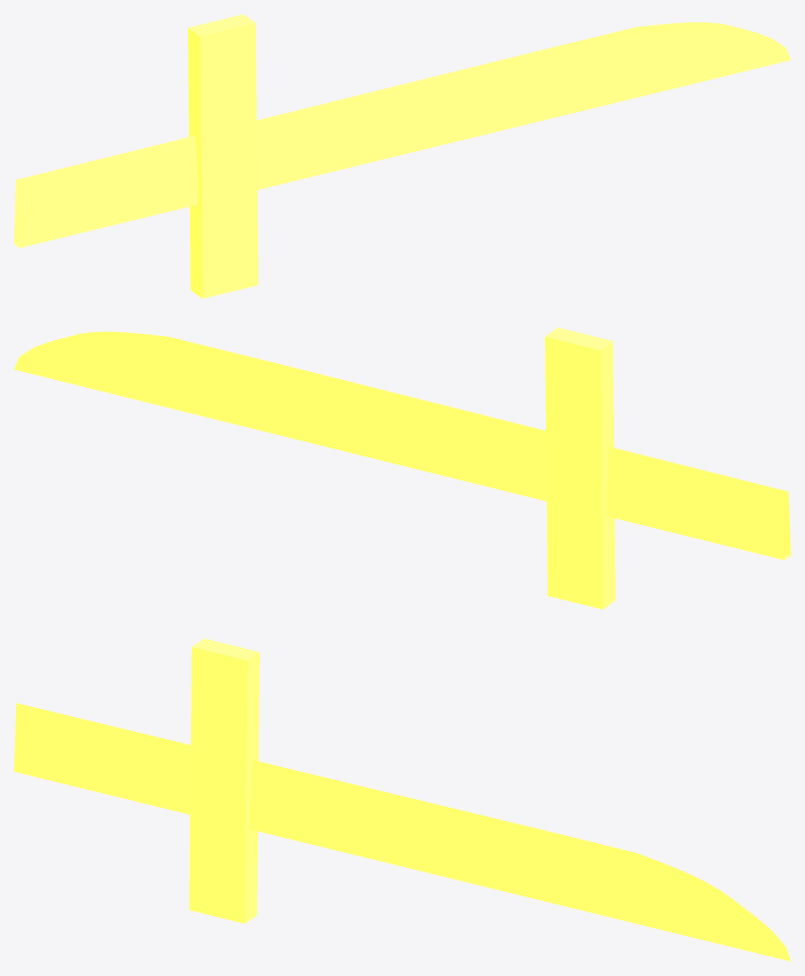
Rendered from SCORPION.glb.
3 views of the same model, one above another, from view 1: azimuth 30°, elevation 25°; view 2: azimuth 150°, elevation 25°; view 3: azimuth 330°, elevation 25° (orthographic).
Parts seen in each view (by area): view 1: Cube, Cube.001; view 2: Cube, Cube.001; view 3: Cube, Cube.001.
Boxes of the visible parts, x1,y1,x2,y2 form: Cube: (14,22,790,247); Cube.001: (188,14,258,298); Cube: (14,331,790,560); Cube.001: (545,327,615,609); Cube: (14,703,790,961); Cube.001: (189,638,259,923).
Bounding box in the file's own units: 0.5005 × 0.1612 × 0.0168.
